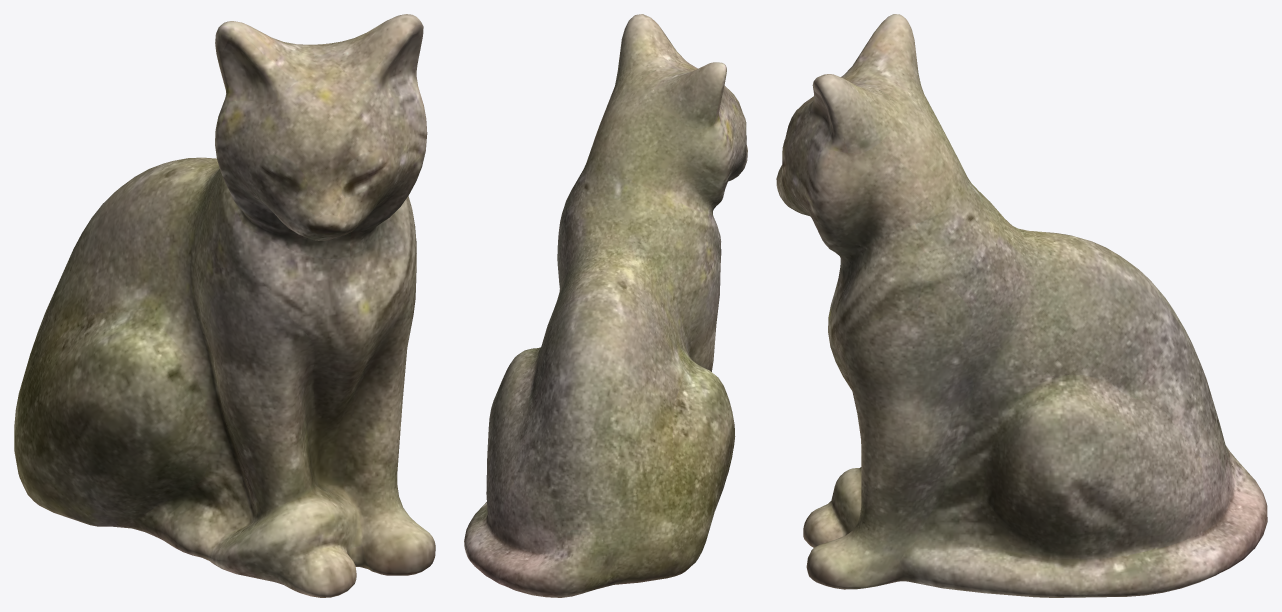
The model's file is concrete_cat_statue.glb.
The picture shows the model from 3 angles, left to right: view 1: azimuth 30°, elevation 25°; view 2: azimuth 150°, elevation 25°; view 3: azimuth 270°, elevation 25°; orthographic projection. The views are drawn at different scales.
Visible parts, largest first — view 1: concrete_cat_statue; view 2: concrete_cat_statue; view 3: concrete_cat_statue.
Boxes of the visible parts, box(x1,y1,x2,y2) form: concrete_cat_statue: box(14, 14, 435, 597); concrete_cat_statue: box(464, 14, 747, 597); concrete_cat_statue: box(776, 14, 1267, 597).
Size of the model in its own units: 0.153 by 0.283 by 0.25.
1 material, 1 textured.
